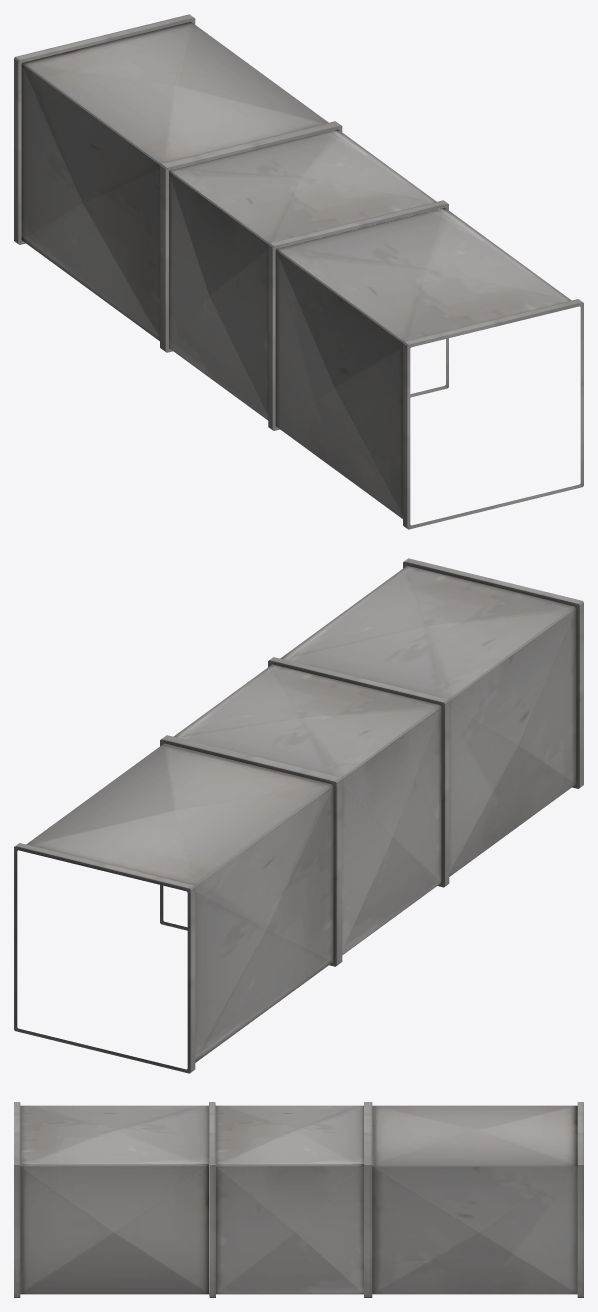
The picture shows the model from 3 angles, top to bottom: view 1: azimuth 30°, elevation 25°; view 2: azimuth 150°, elevation 25°; view 3: azimuth 270°, elevation 25°; orthographic projection. The views are drawn at different scales.
Visible parts, largest first — view 1: body0_model0_lod0_mesh0; view 2: body0_model0_lod0_mesh0; view 3: body0_model0_lod0_mesh0.
Boxes of the visible parts, <box> form: body0_model0_lod0_mesh0: <box>14,14,583,529</box>; body0_model0_lod0_mesh0: <box>14,558,583,1073</box>; body0_model0_lod0_mesh0: <box>14,1102,583,1297</box>.
Size of the model in its own units: 34.51 by 34.54 by 128.
Materials: 1 (1 with a texture image).
